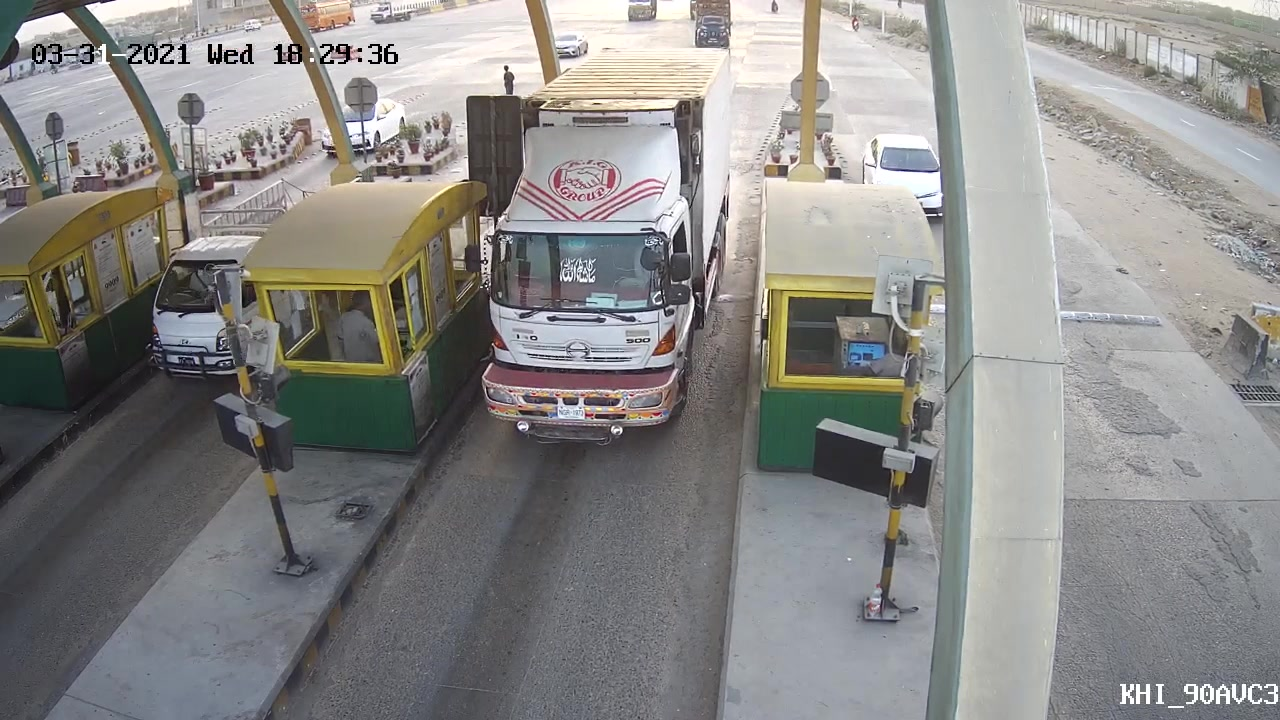F5: (472, 52, 747, 446)
